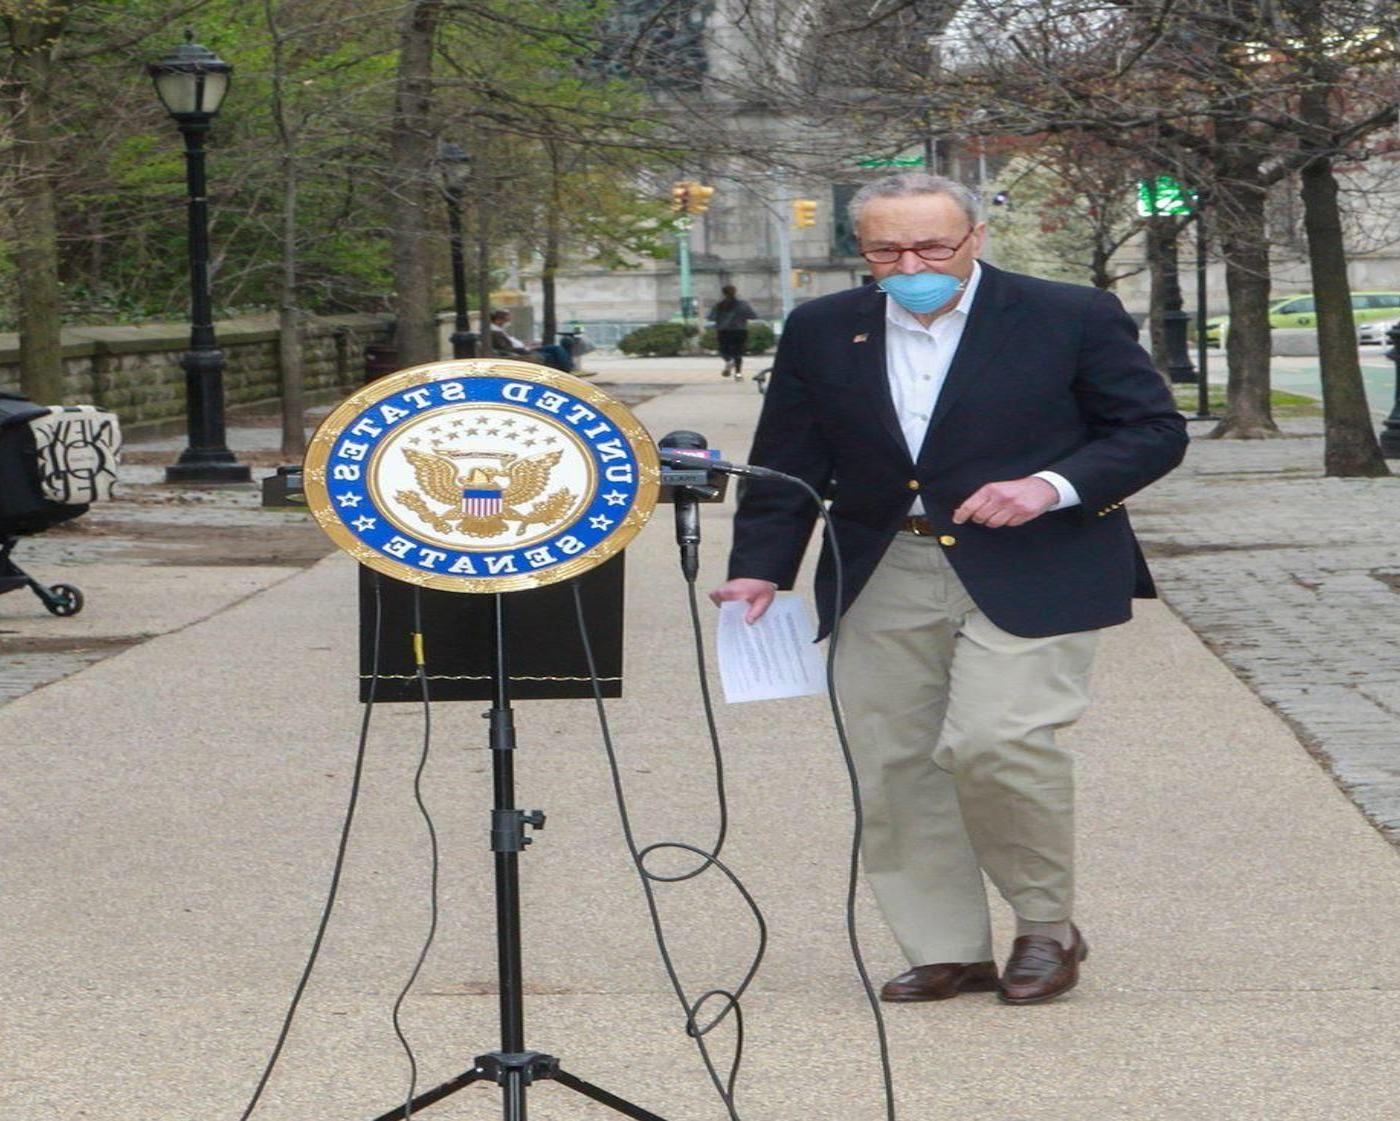mask_weared_incorrect: (845, 172, 991, 319)
